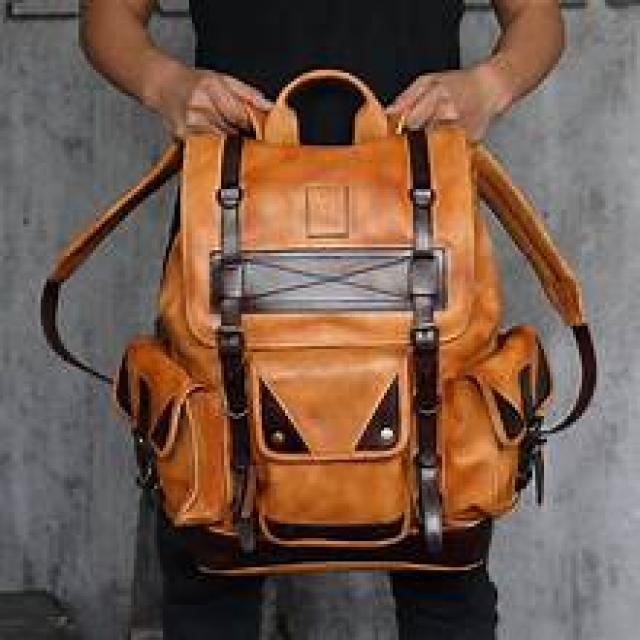backpack: (39, 68, 597, 583)
